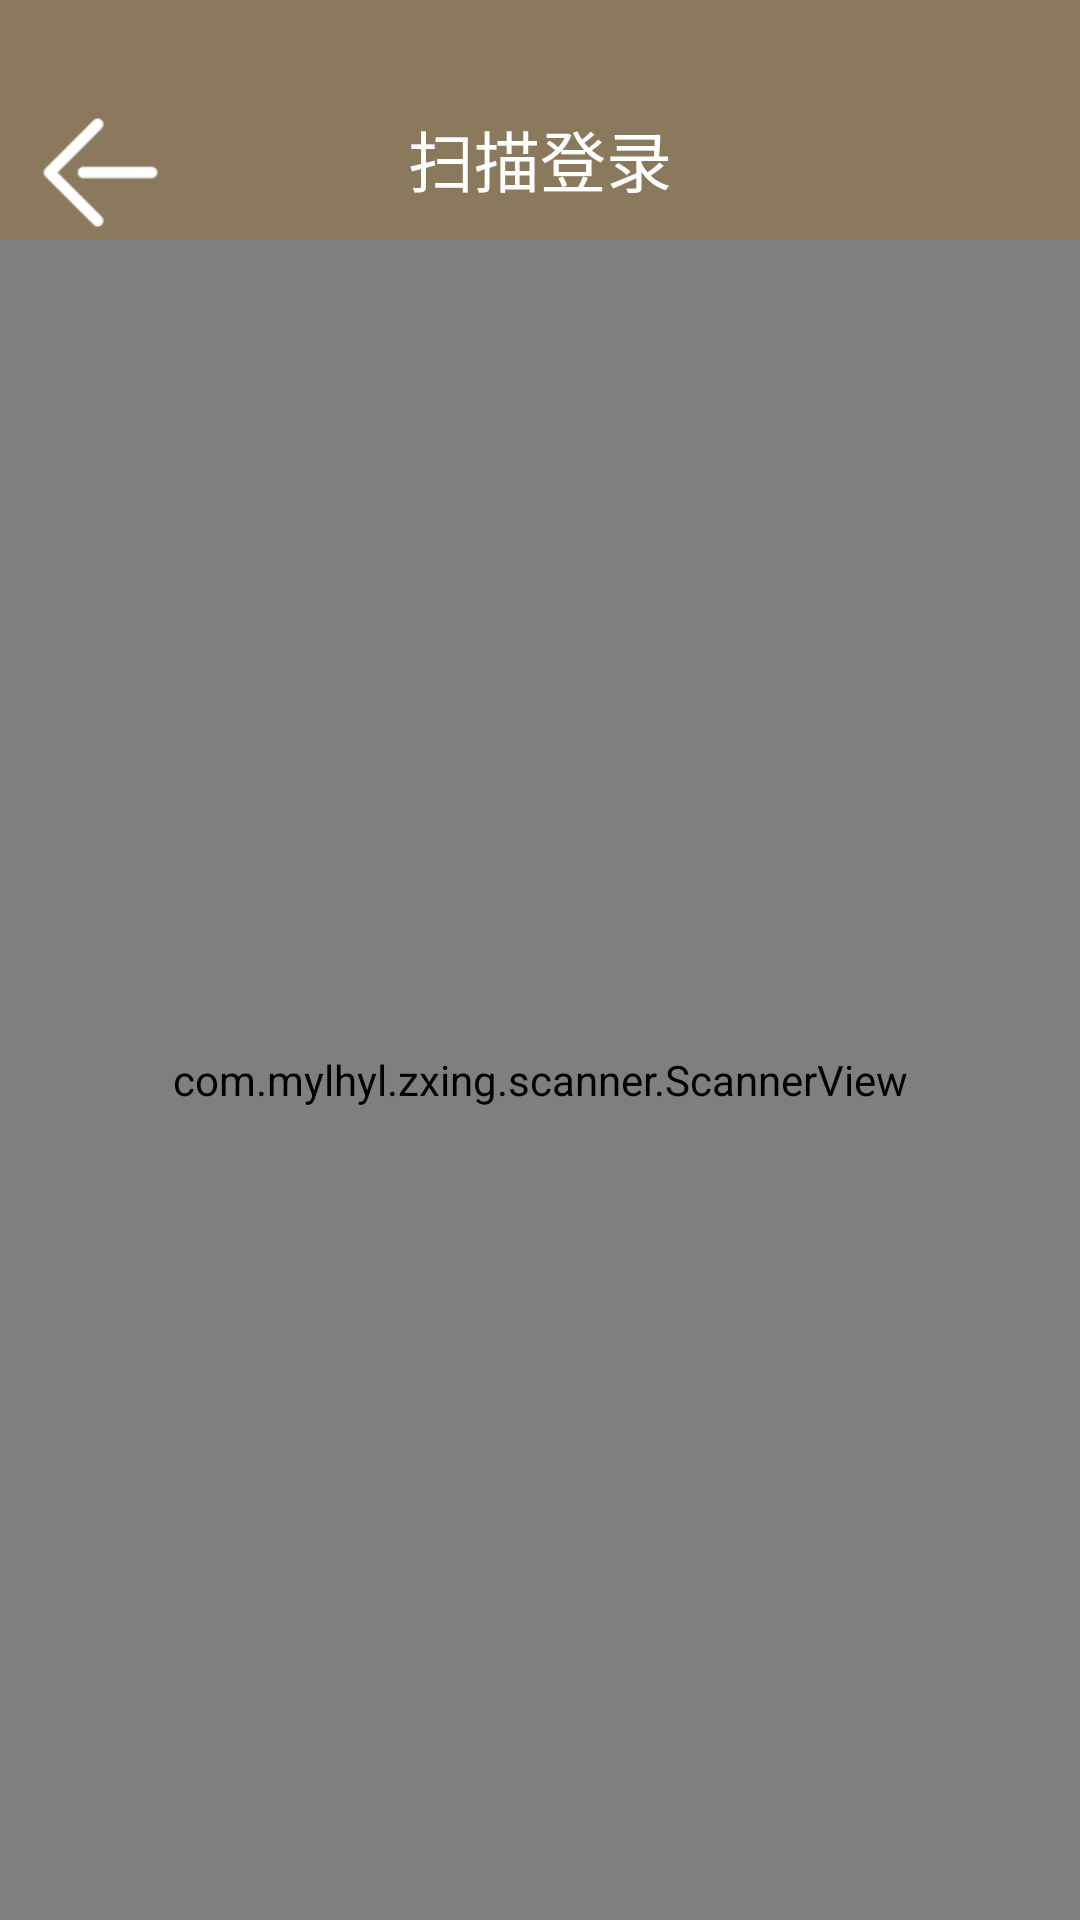

Point at icon controls on the screen. Image size 1080px×1920px, points as point (x, y).
back: point (100, 172)
